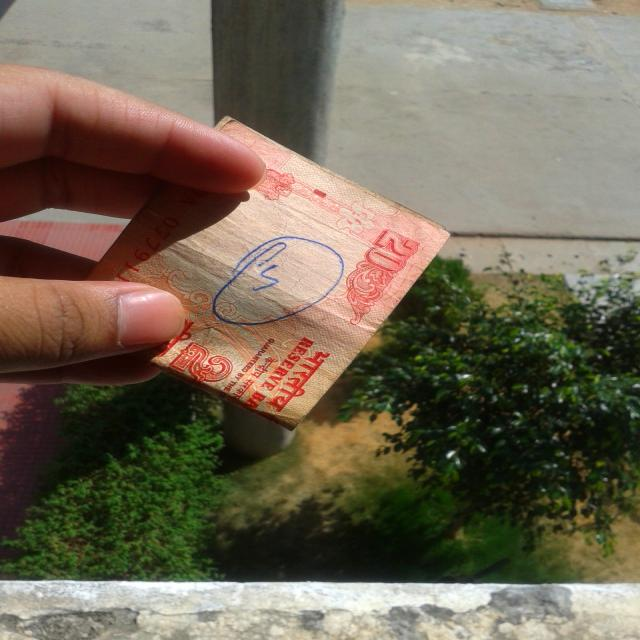20rs: (69, 112, 466, 426)
